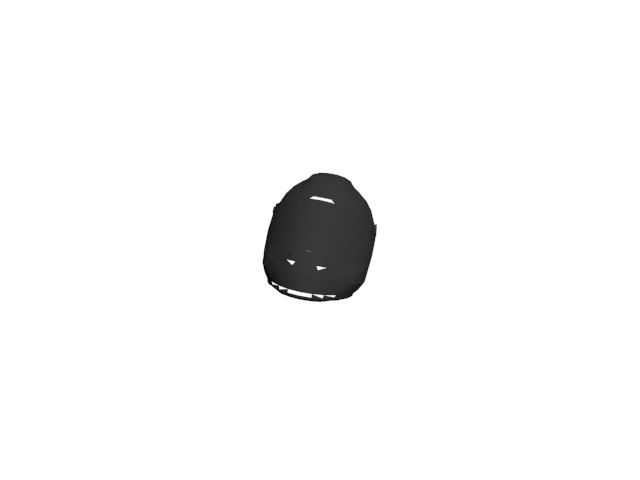bike_helmet: (257, 169, 384, 304)
